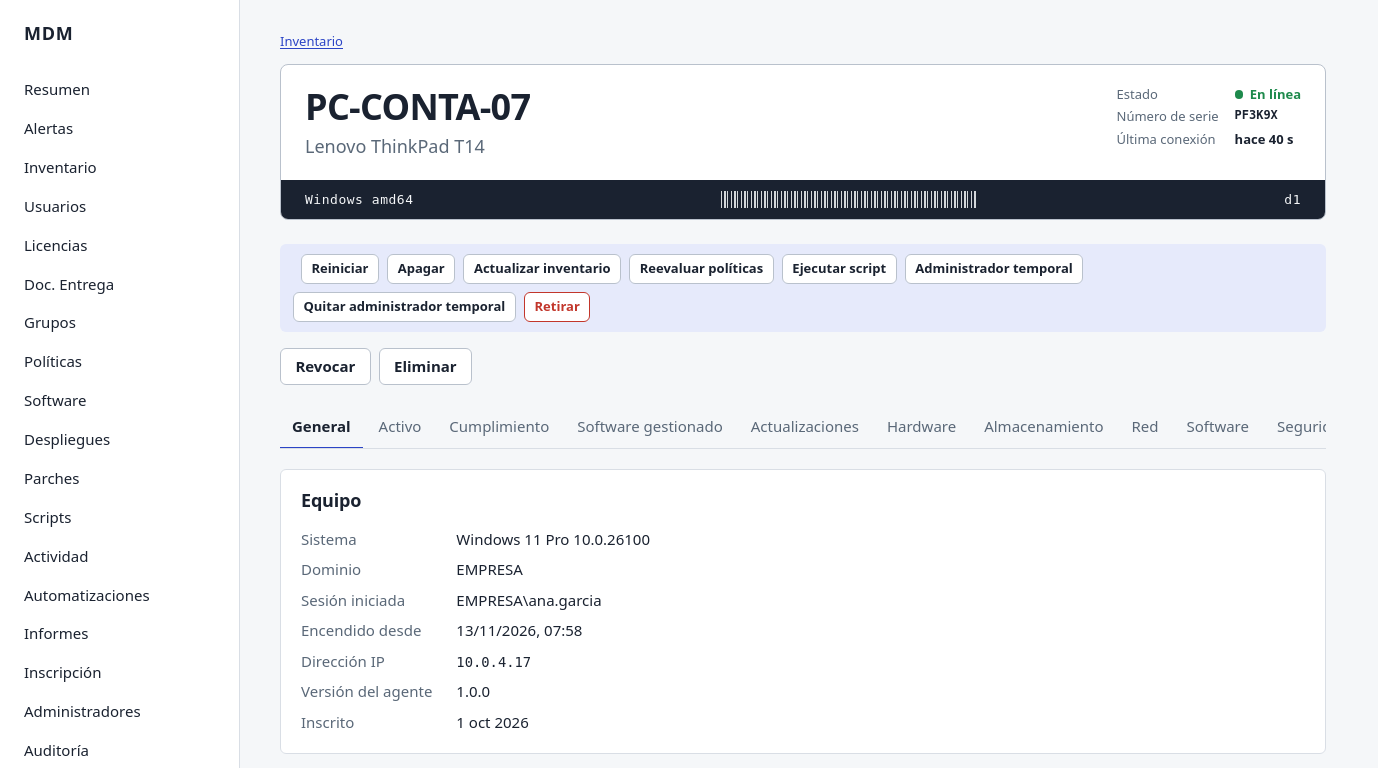
Test: Ficha de dispositivo › la pestaña Almacenamiento muestra cada volumen con usado, libre y cifrado
The width and height of the screenshot is (1378, 768).
What coordinates should you click on to do the following:
click the tab "Almacenamiento"
I would click on:
 (1044, 427)
Its box is x1=972 y1=405 x2=1116 y2=449.
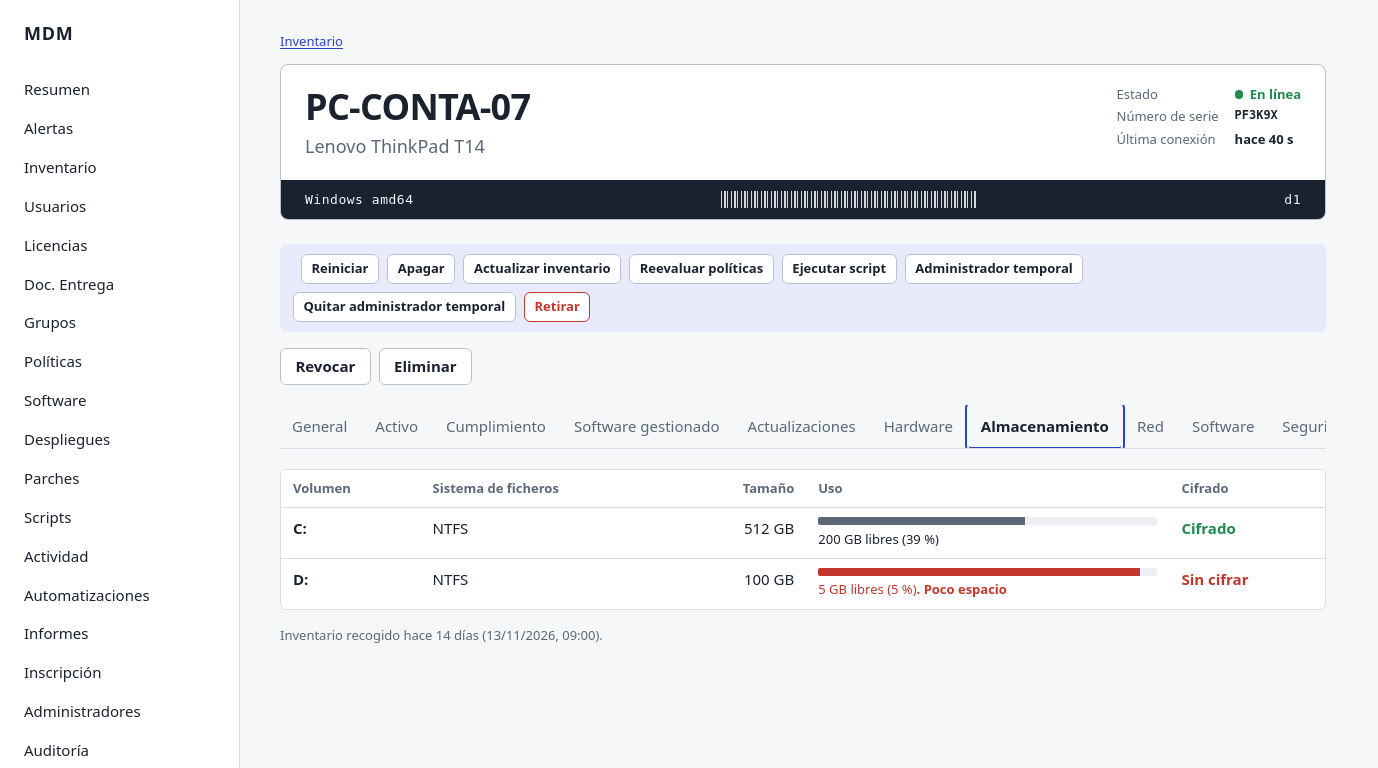
Expected: the text "512 GB" is shown, x1=677 y1=508 x2=806 y2=558
Expected: the text "200 GB libres (39 %)" is shown, x1=818 y1=530 x2=939 y2=548
Expected: the text "Cifrado" is shown, x1=1181 y1=518 x2=1236 y2=538
